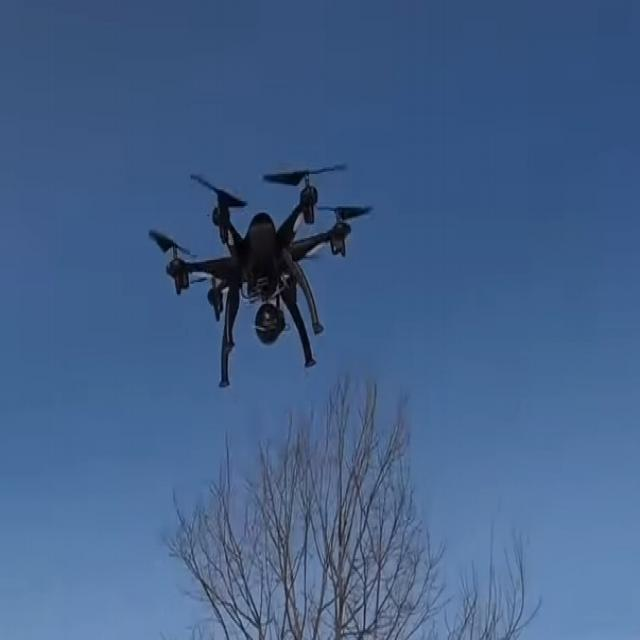drone: (143, 143, 380, 403)
